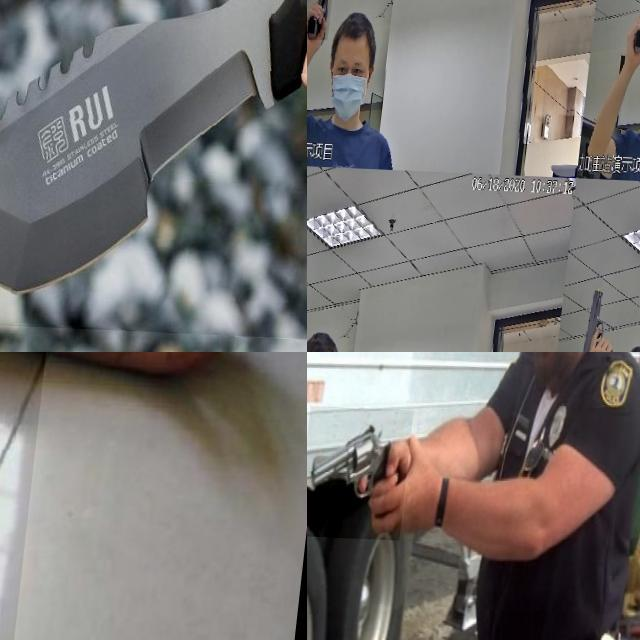-: (0, 0, 307, 334), (0, 352, 180, 640)
gun-knife-thesis - v11 Yolov5 augmented: (307, 405, 420, 538), (588, 280, 632, 352), (307, 0, 339, 43), (307, 275, 319, 352), (624, 0, 640, 48)
